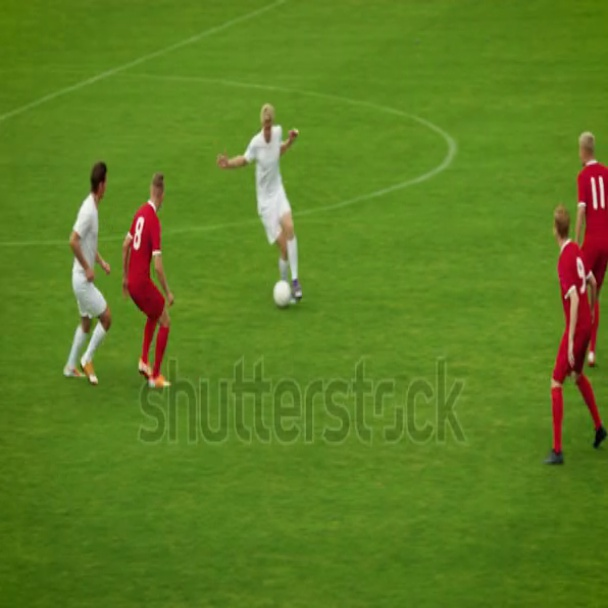ball: (276, 277, 293, 312)
